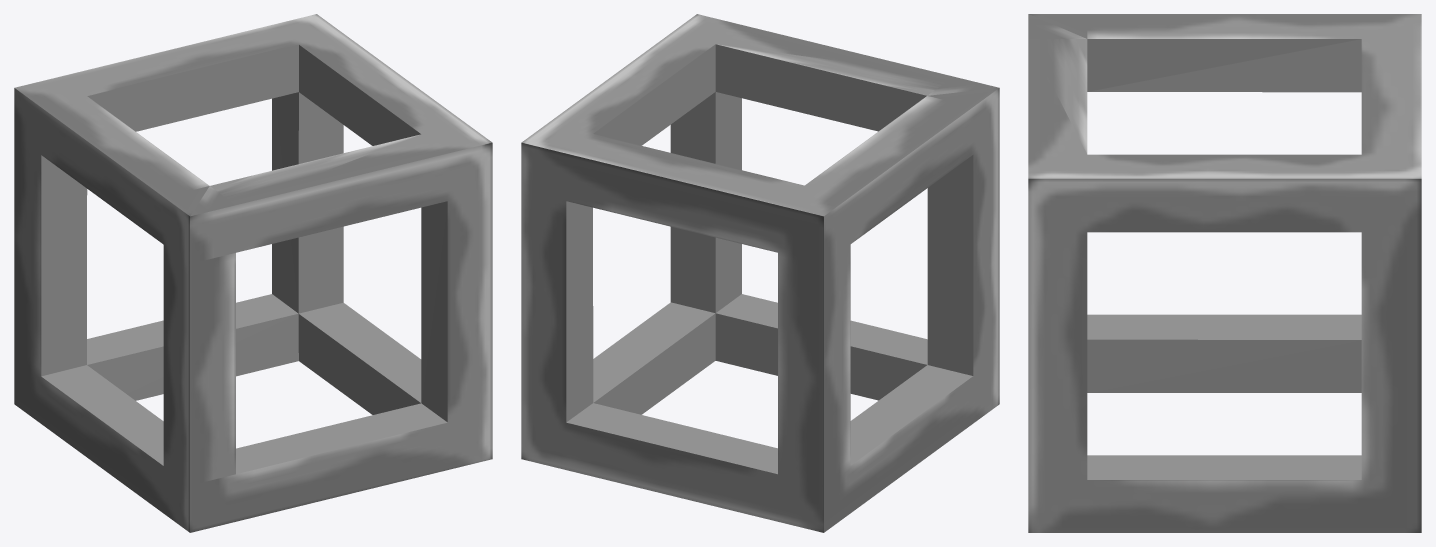
Rendered from stoneBox.obj.
3 renders of one model, left to right at view 1: azimuth 30°, elevation 25°; view 2: azimuth 150°, elevation 25°; view 3: azimuth 270°, elevation 25°, orthographic. The views are drawn at different scales.
Visible parts, largest first — view 1: Cube; view 2: Cube; view 3: Cube.
Boxes of the visible parts, box(x1,y1,x2,y2) form: Cube: box(14, 14, 492, 532); Cube: box(521, 14, 999, 532); Cube: box(1028, 14, 1421, 532).
Size of the model in its own units: 3.98 by 3.98 by 4.01.
